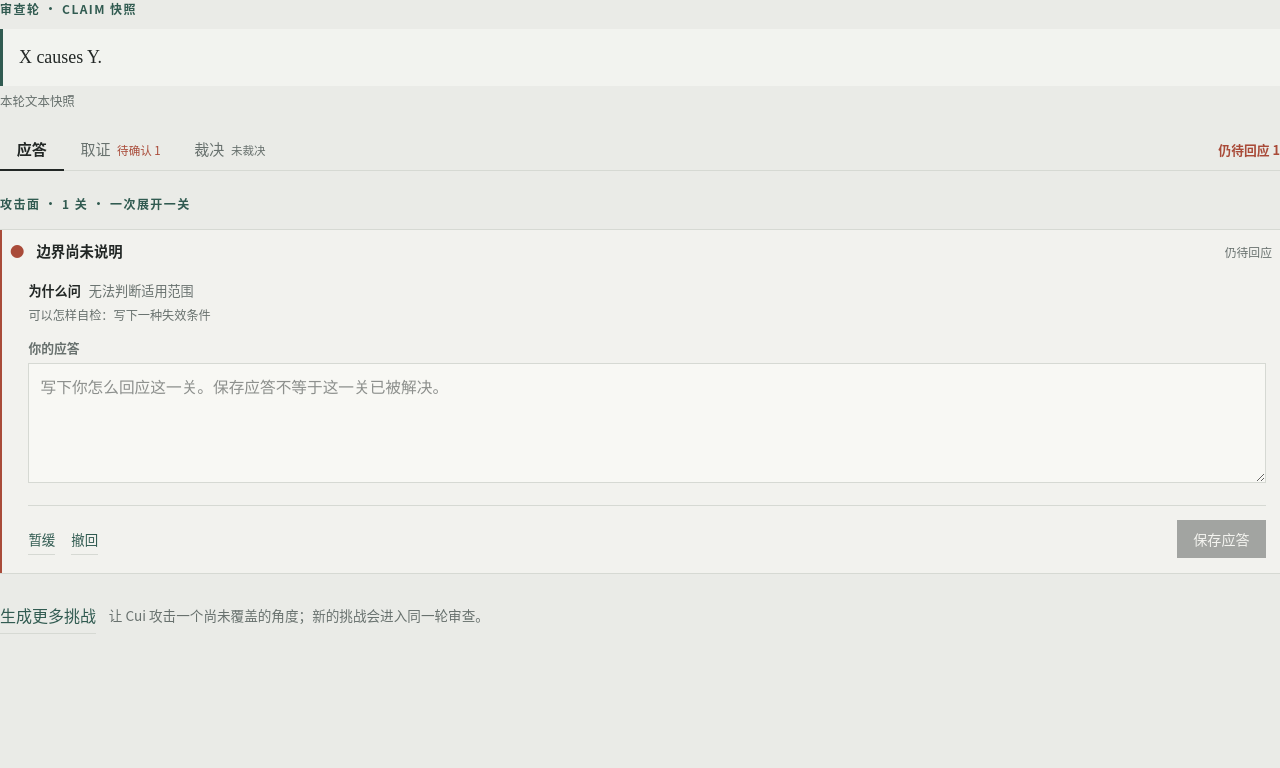
ReviewRoundDesk evidence surface › corrects a pending candidate to a different relation
The width and height of the screenshot is (1280, 768).
Click the tab "取证 待确认 1".
click(121, 150)  # box x1=64 y1=128 x2=178 y2=171
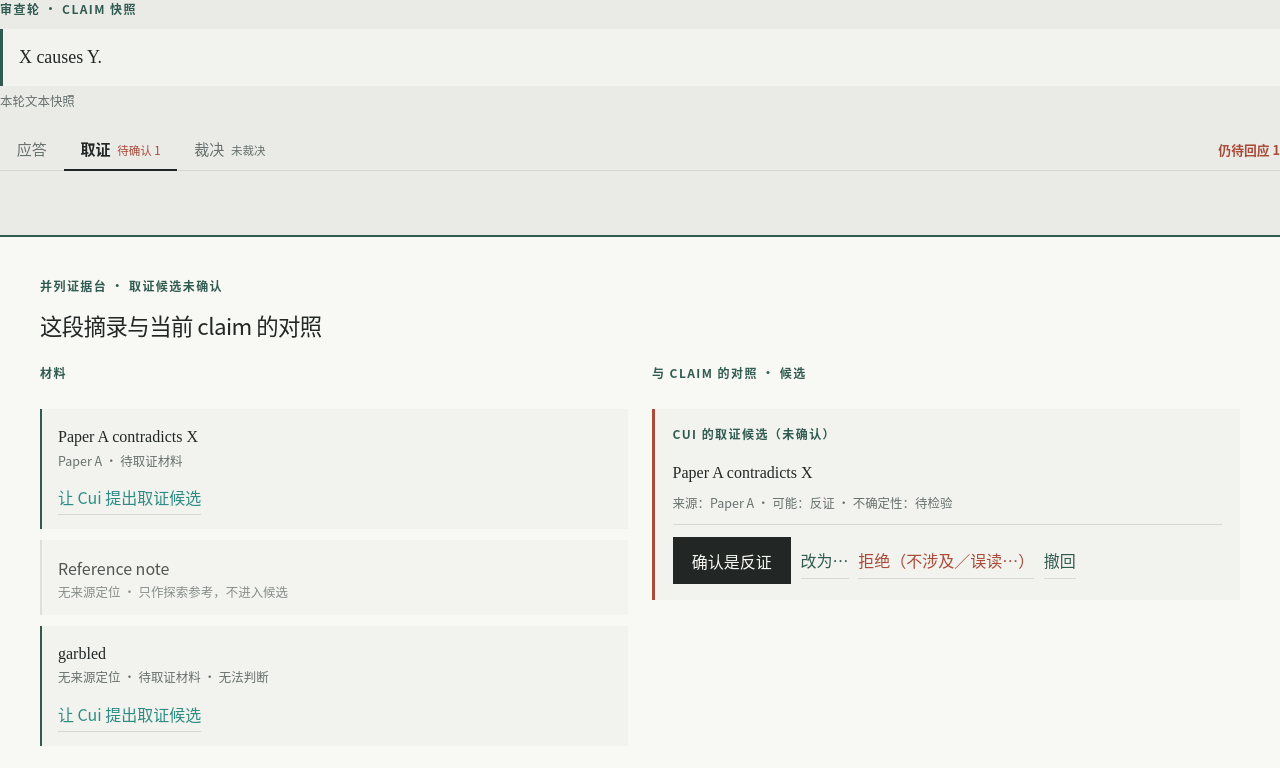
Now the 1st text "Paper A contradicts X" is shown, box x1=58 y1=428 x2=198 y2=445
Click the button "改为…".
click(825, 561)  # box x1=801 y1=542 x2=849 y2=579
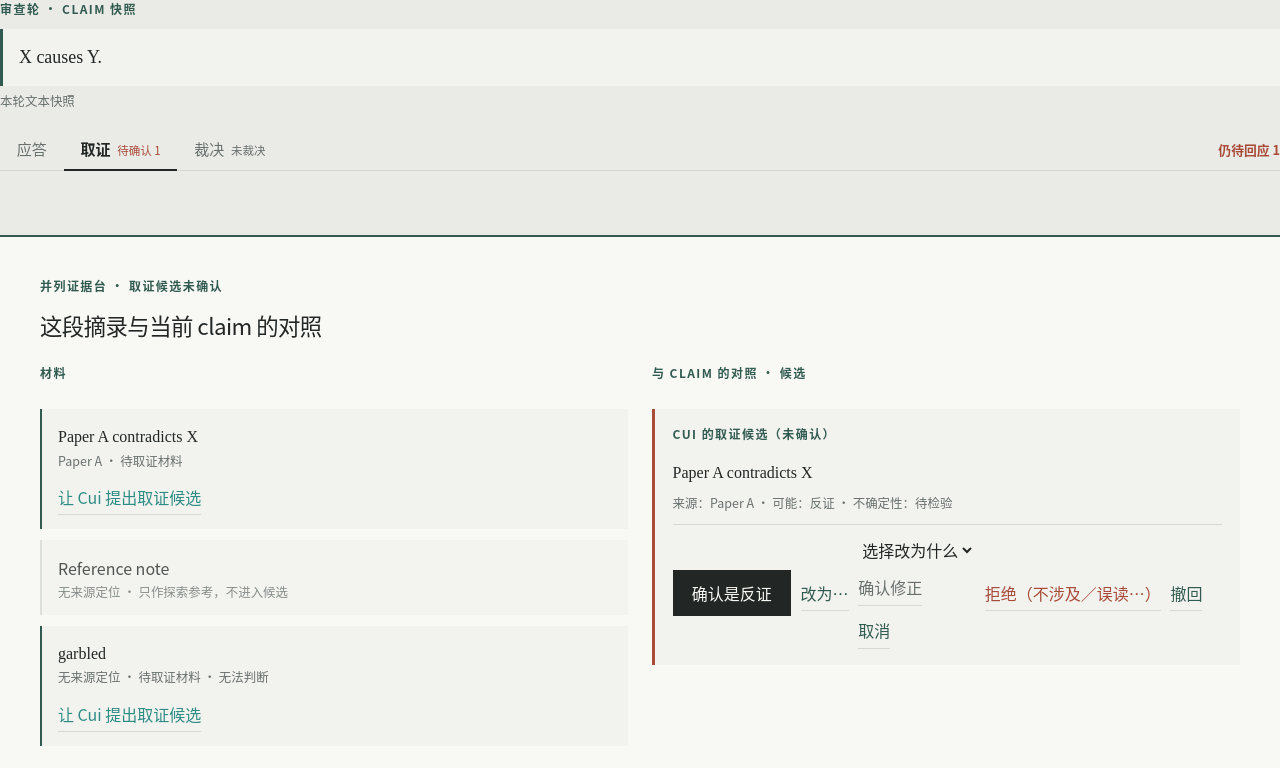
Select "查无" in the dropdown named "改为什么" at (917, 550), box x1=858 y1=537 x2=975 y2=563
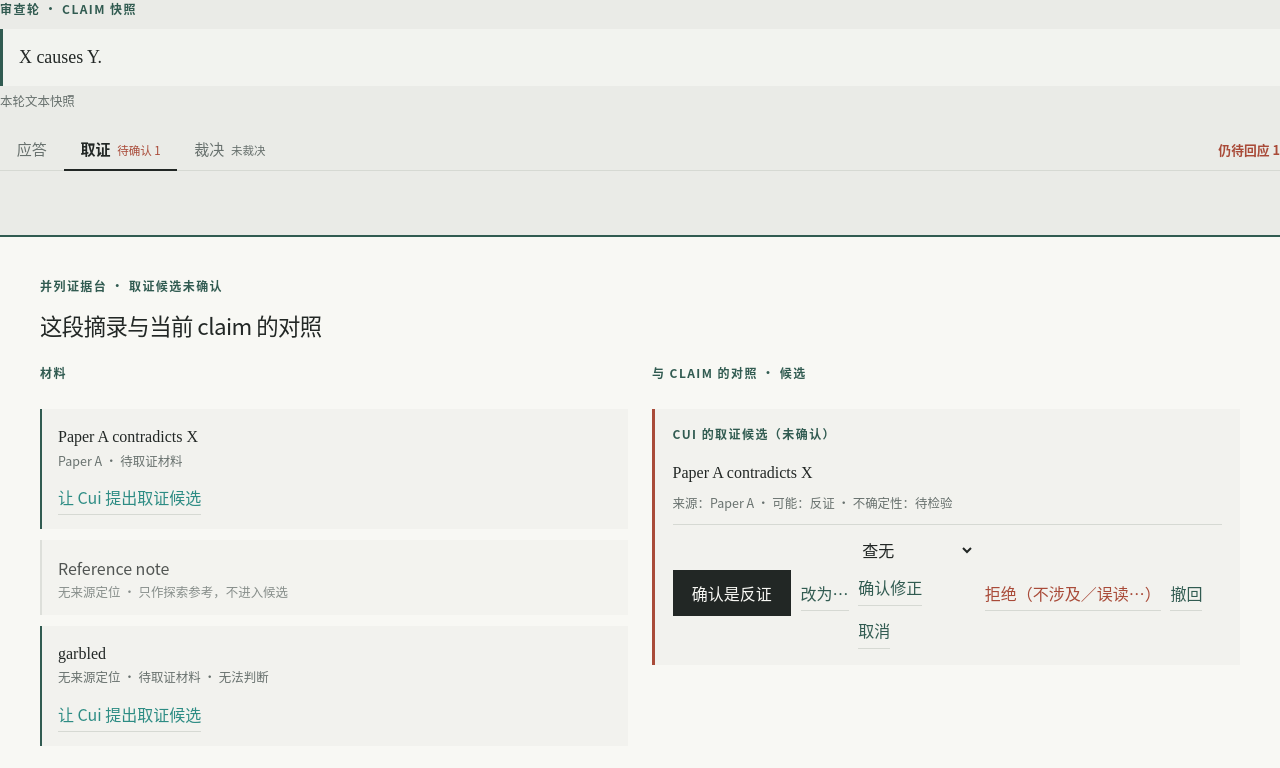
Click the button "确认修正".
click(890, 588)  # box x1=858 y1=570 x2=922 y2=606
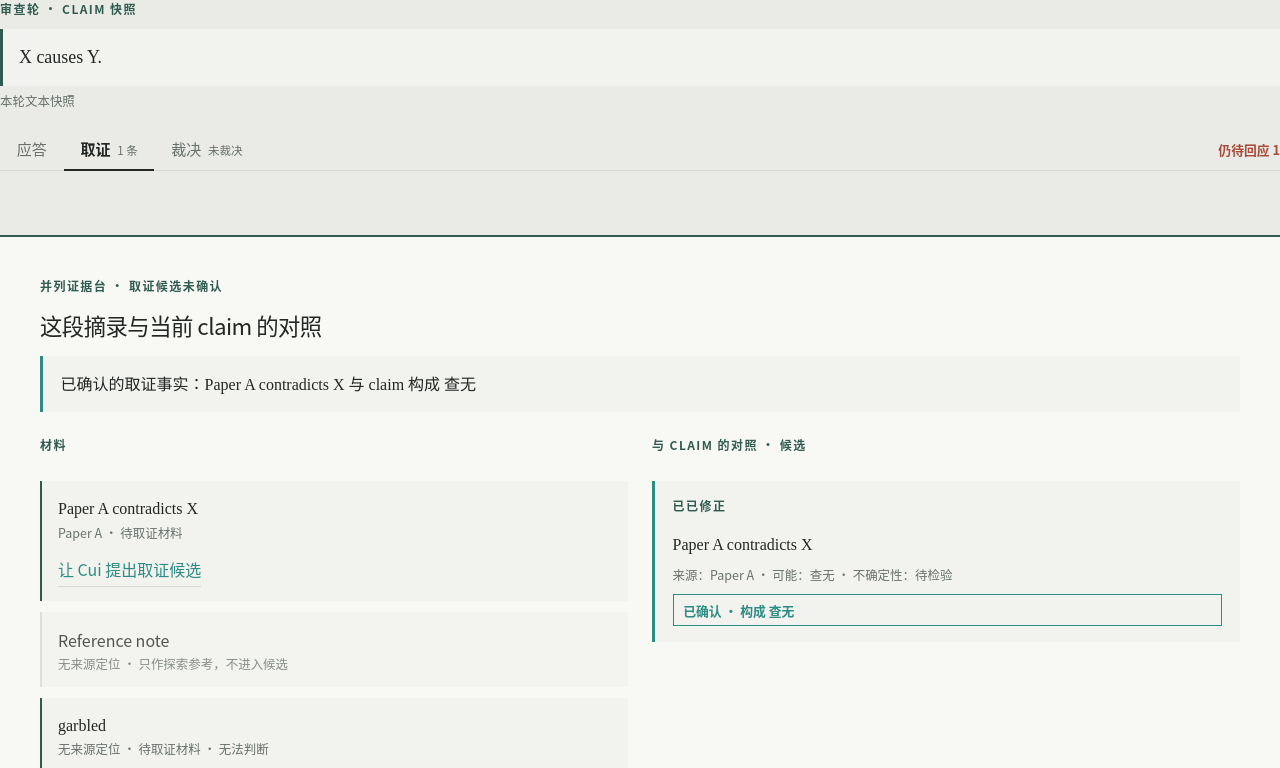
Now the text "已确认的取证事实：Paper A contradicts X 与 claim 构成 查无" is shown, box x1=40 y1=356 x2=1240 y2=412
